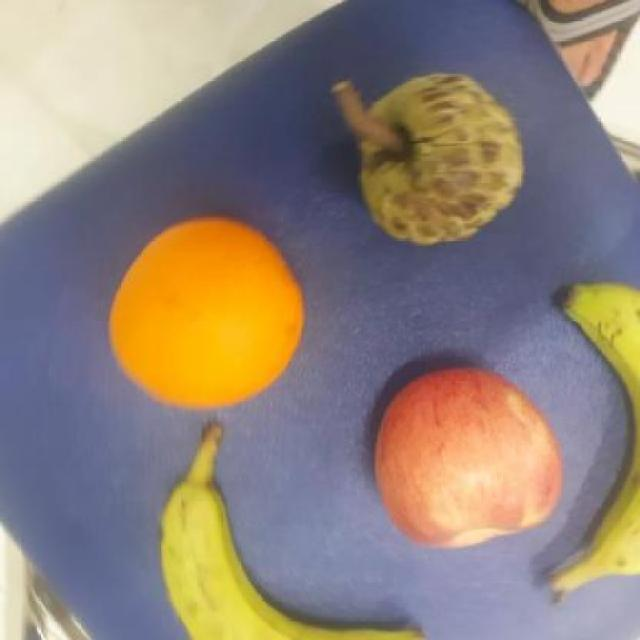apple: (367, 358, 567, 549)
banana: (158, 481, 430, 639), (553, 275, 639, 580)
oren: (106, 219, 303, 413)
sugar apple: (356, 74, 527, 248)
